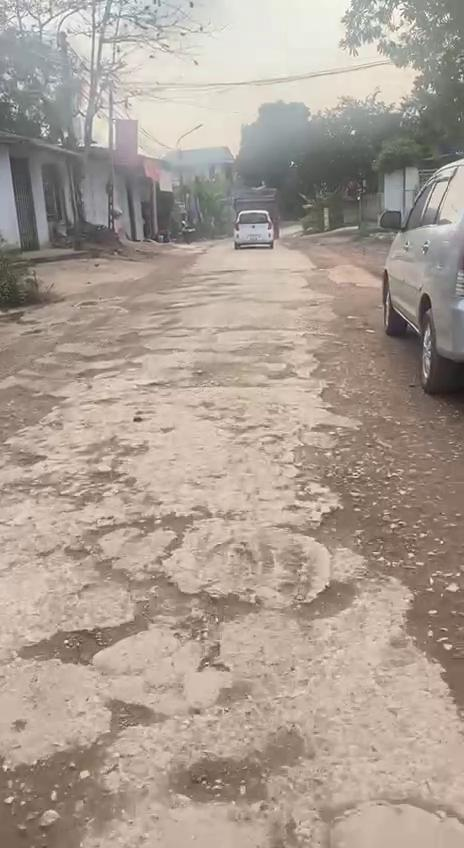pothole: (14, 574, 261, 677), (293, 452, 416, 577), (0, 724, 122, 848), (77, 505, 213, 583), (173, 748, 274, 810), (0, 376, 71, 441), (295, 576, 359, 628)
